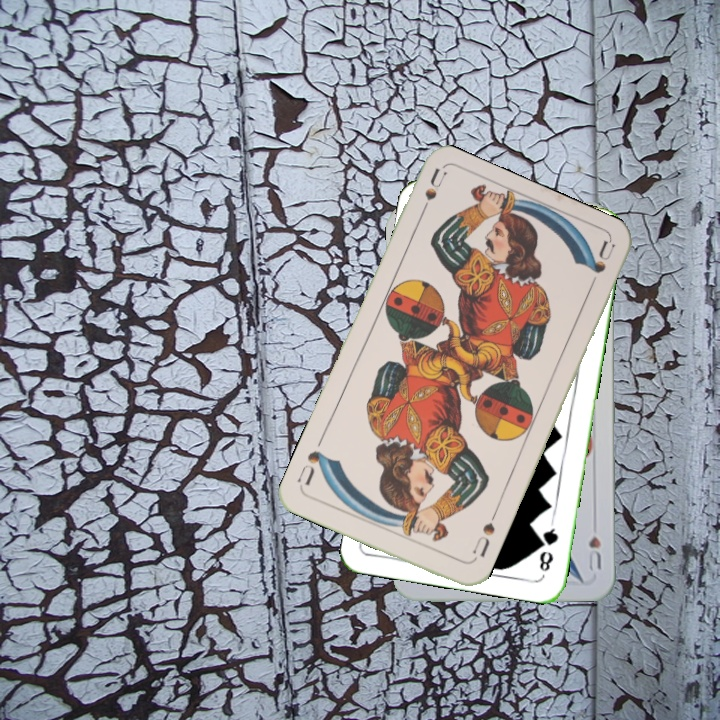G8: (535, 518, 561, 574)
HU: (584, 532, 604, 573)
SU: (414, 166, 448, 224), (468, 508, 499, 564)
